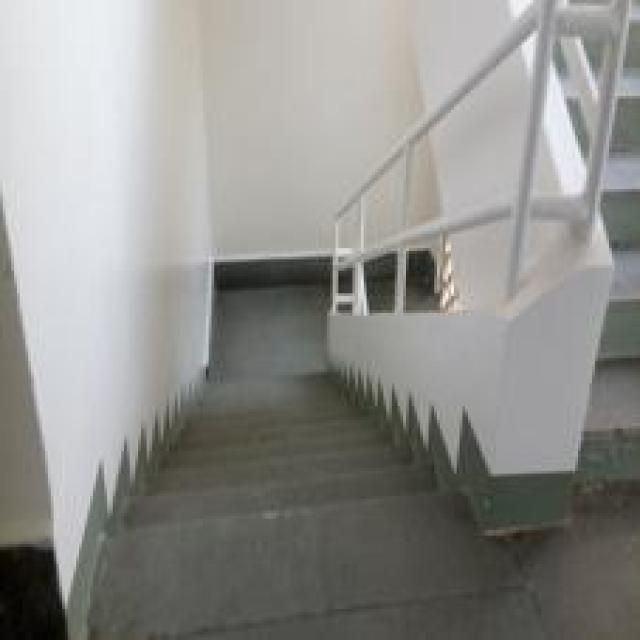stair: (118, 406, 423, 544)
